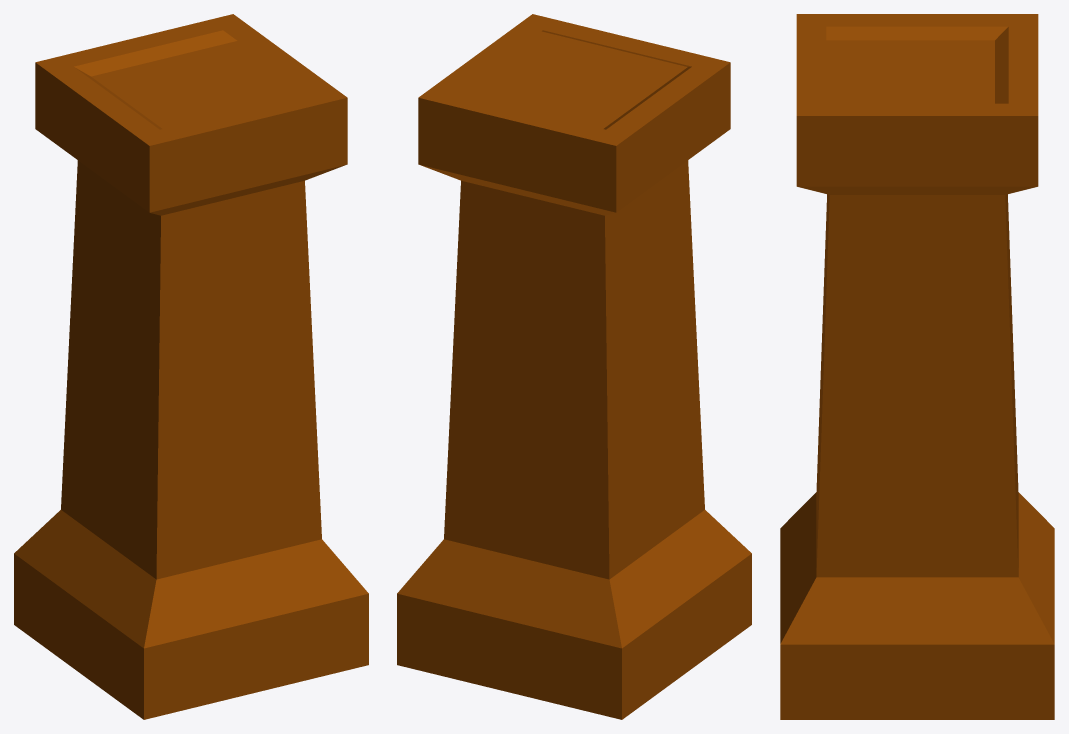
The model's file is towerModel.fbx.
3 views of the same model, side by side, from view 1: azimuth 30°, elevation 25°; view 2: azimuth 150°, elevation 25°; view 3: azimuth 270°, elevation 25° (orthographic). The views are drawn at different scales.
Parts seen in each view (by area): view 1: Cube; view 2: Cube; view 3: Cube.
Boxes of the visible parts, x1,y1,x2,y2 form: Cube: (14,14,368,719); Cube: (397,14,751,719); Cube: (780,14,1054,719).
Bounding box in the file's own units: 200 × 480 × 200.
